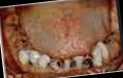Caries: (78, 57, 91, 69), (69, 60, 77, 68), (56, 61, 62, 68), (46, 60, 51, 67)
